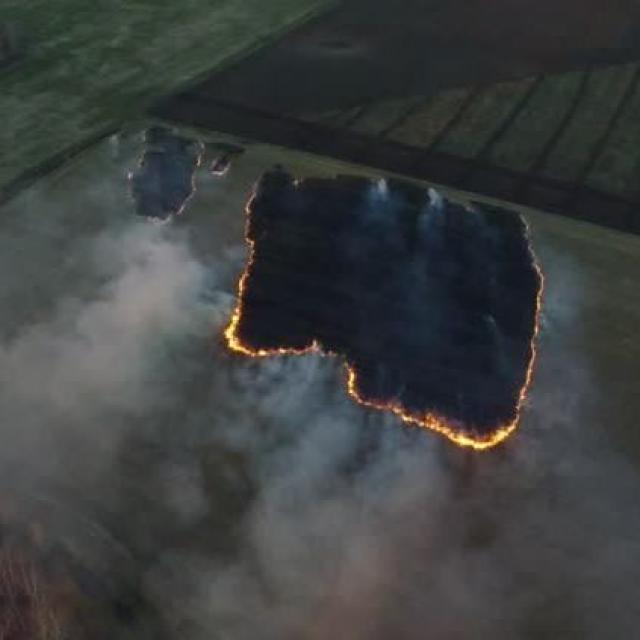Fire: (227, 240, 540, 466), (121, 130, 196, 228)
Smoke: (0, 242, 211, 478), (209, 384, 401, 640), (376, 442, 616, 628)
